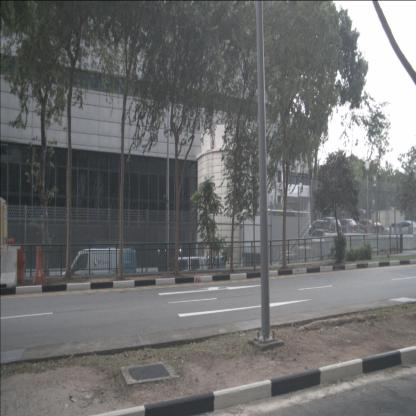movable_object-barrier: (0, 245, 27, 285), (0, 248, 18, 289), (32, 246, 46, 285)
vehicle-car: (60, 248, 136, 296), (173, 257, 226, 290), (309, 217, 342, 241), (332, 219, 364, 240), (352, 219, 384, 239), (389, 221, 416, 240)
